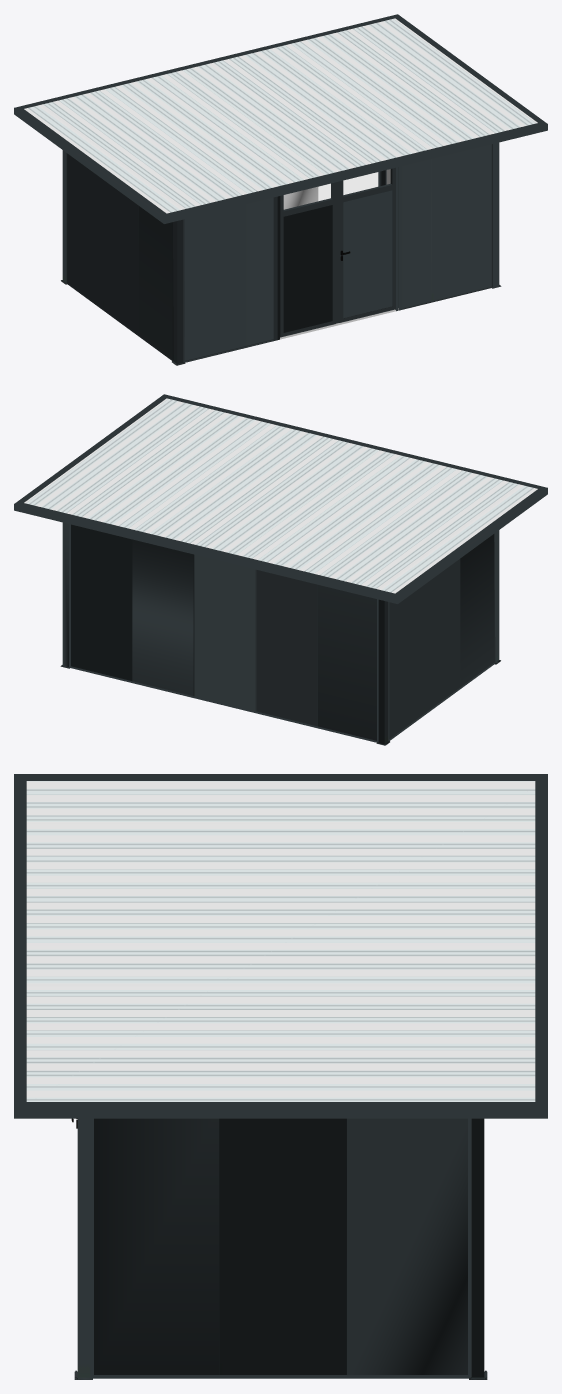
3 renders of one model, top to bottom at view 1: azimuth 30°, elevation 25°; view 2: azimuth 150°, elevation 25°; view 3: azimuth 270°, elevation 25°, orthographic. The views are drawn at different scales.
Parts seen in each view (by area): view 1: priximbattable_net_abris_de_jardin_640008_abri_de_jardin_ane, folha, folha_2, porta_avec_hublot; view 2: priximbattable_net_abris_de_jardin_640008_abri_de_jardin_ane; view 3: priximbattable_net_abris_de_jardin_640008_abri_de_jardin_ane.
Part boxes in pixels (x1=…): priximbattable_net_abris_de_jardin_640008_abri_de_jardin_ane: x1=14, y1=14, x2=547, y2=365; folha: x1=280, y1=181, x2=339, y2=337; folha_2: x1=339, y1=168, x2=395, y2=322; porta_avec_hublot: x1=273, y1=166, x2=402, y2=340; priximbattable_net_abris_de_jardin_640008_abri_de_jardin_ane: x1=14, y1=394, x2=547, y2=745; priximbattable_net_abris_de_jardin_640008_abri_de_jardin_ane: x1=14, y1=774, x2=547, y2=1379.
Size of the model in its own units: 620 by 259 by 420.
Materials: 1 (1 with a texture image).
